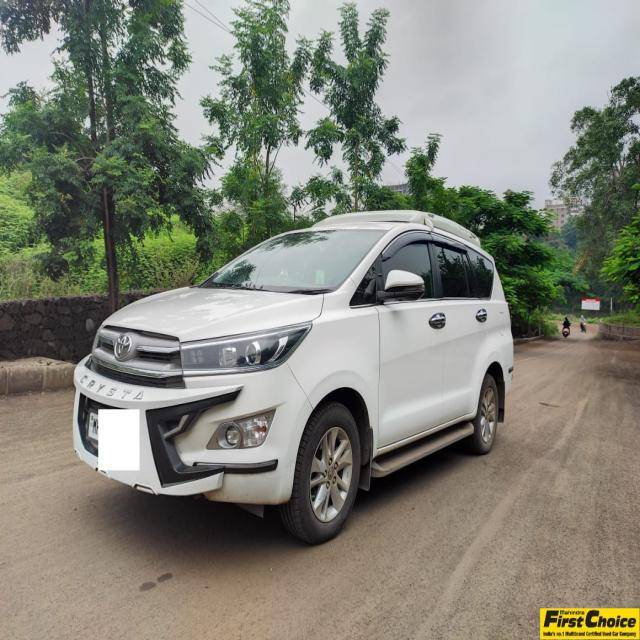light_vehicle: (71, 210, 515, 545)
